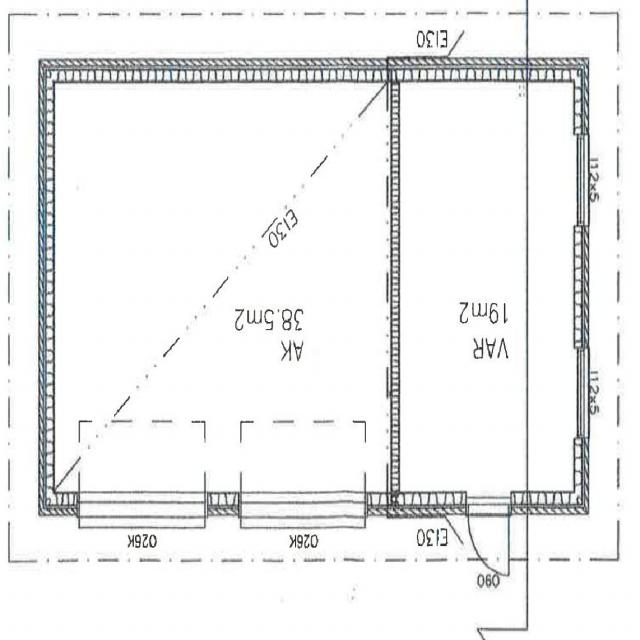door: (468, 488, 510, 577)
